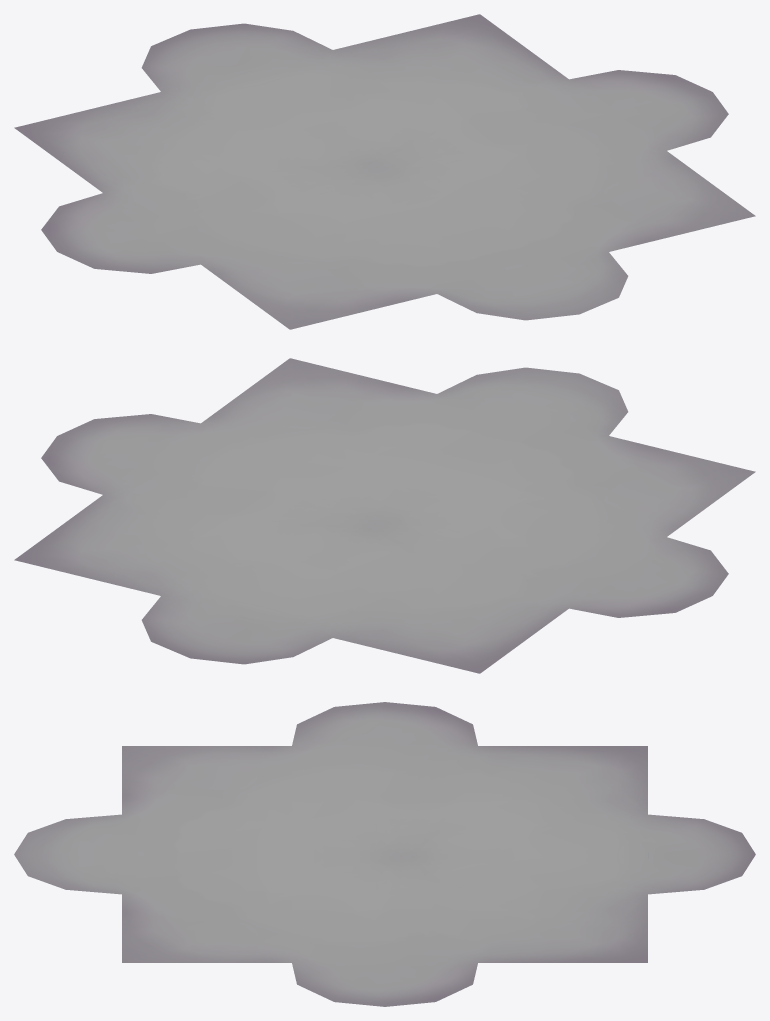
File: fountain_water.obj
3 views of the same model, one above another, from view 1: azimuth 30°, elevation 25°; view 2: azimuth 150°, elevation 25°; view 3: azimuth 270°, elevation 25° (orthographic). The views are drawn at different scales.
Visible parts, largest first — view 1: Cube.001_Cube.000; view 2: Cube.001_Cube.000; view 3: Cube.001_Cube.000.
Part boxes in pixels (x1,y1,x2,y2): Cube.001_Cube.000: (14,14,755,329); Cube.001_Cube.000: (14,358,755,673); Cube.001_Cube.000: (14,702,755,1006).
Bounding box in the file's own units: 6.48 × 0.0223 × 6.66.
1 material, 1 textured.
